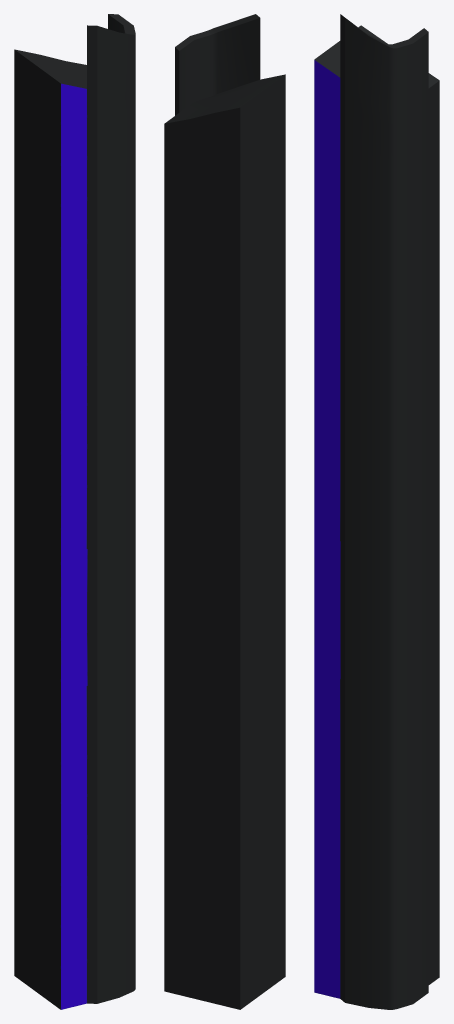
The model's file is building3.glb.
3 views of the same model, side by side, from view 1: azimuth 30°, elevation 25°; view 2: azimuth 150°, elevation 25°; view 3: azimuth 330°, elevation 25° (orthographic). The views are drawn at different scales.
Parts seen in each view (by area): view 1: building3; view 2: building3; view 3: building3.
Boxes of the visible parts, left/top/right/bottom form: building3: left=14, top=14, right=135, bottom=1009; building3: left=164, top=14, right=285, bottom=1009; building3: left=314, top=14, right=439, bottom=1009.
Bounding box in the file's own units: 0.0786 × 0.8574 × 0.0787.
Materials: 1 (1 with a texture image).
